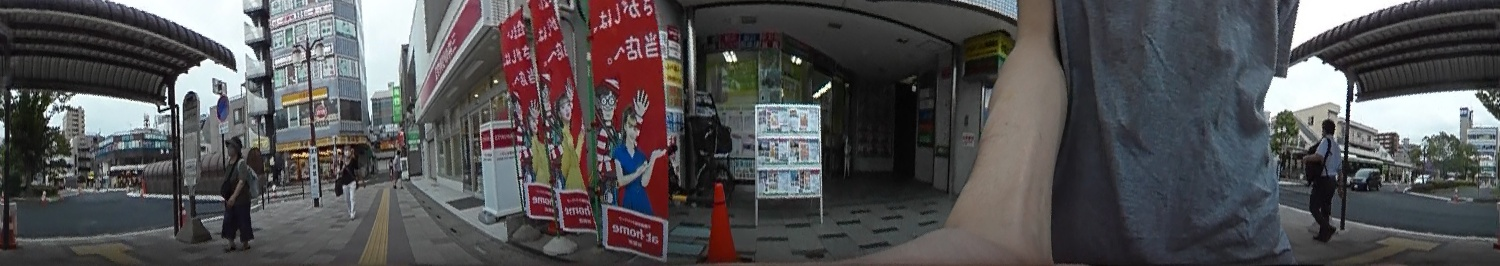difficult_person: (392, 151, 405, 189)
person: (1308, 118, 1346, 243), (220, 137, 257, 249), (339, 141, 359, 218)
